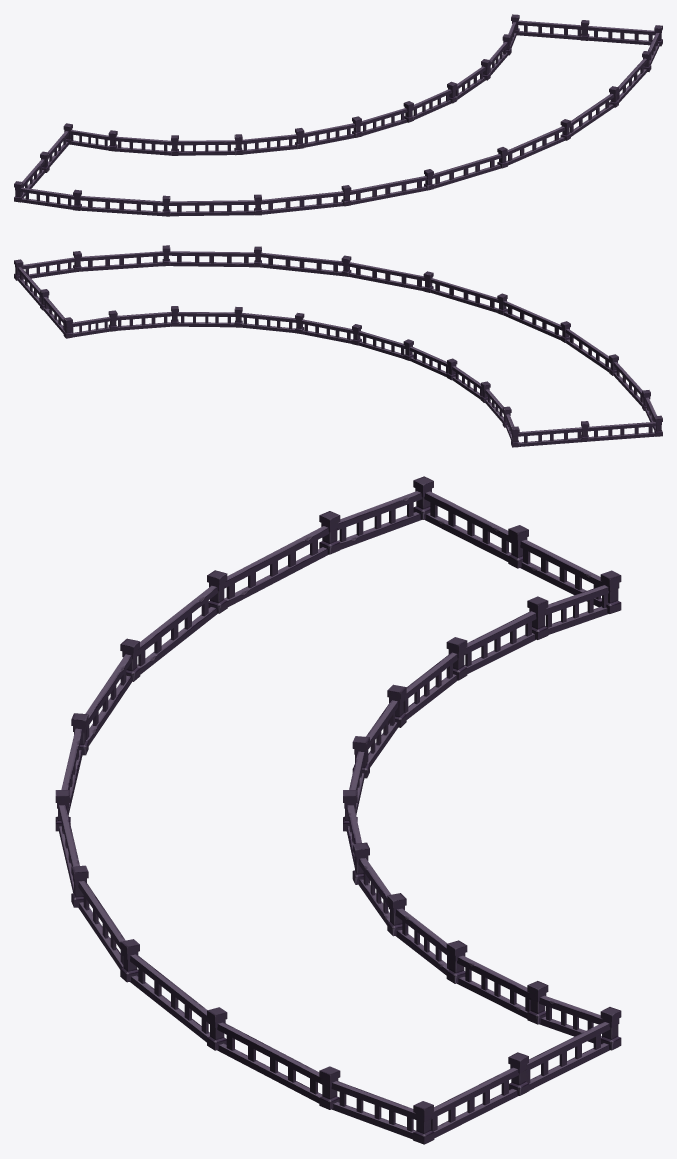
Rendered from Railway.glb.
3 renders of one model, top to bottom at view 1: azimuth 30°, elevation 25°; view 2: azimuth 150°, elevation 25°; view 3: azimuth 270°, elevation 25°, orthographic. The views are drawn at different scales.
Parts seen in each view (by area): view 1: Railway; view 2: Railway; view 3: Railway.
Boxes of the visible parts, x1,y1,x2,y2 form: Railway: (14,14,662,216); Railway: (14,245,662,447); Railway: (55,476,621,1144).
Size of what is drawn, in the model's own units: 77.8 by 2.09 by 29.37.
Materials: 1 (1 with a texture image).
